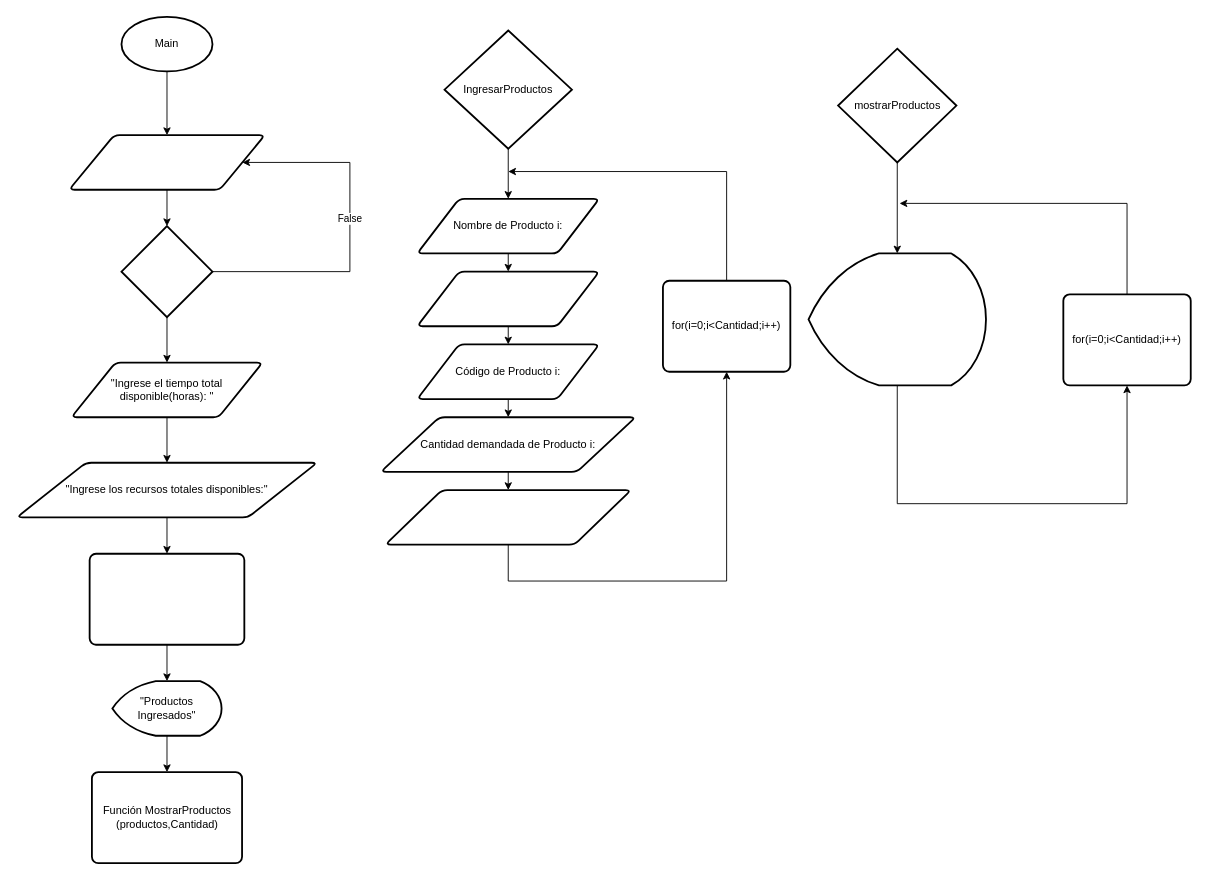
This 1207x879 diagram has some shape labels left out. The box of each missing label's shape, as (x1, y1, x2, y2) in pixels:
"Ingrese la cantidad de productos(máximo 5)": (68, 134, 265, 190)
Cantidad<=5: (120, 225, 213, 318)
Función IngresarProductos (productos,Cantidad): (88, 552, 245, 645)
i | nombre Precio: | Codigo: | Cantidad: | Tiempo/u: |: (807, 252, 986, 386)
Precio de Producto i:: (416, 270, 600, 327)
Tiempo por unidad de Producto i:: (384, 489, 632, 545)
